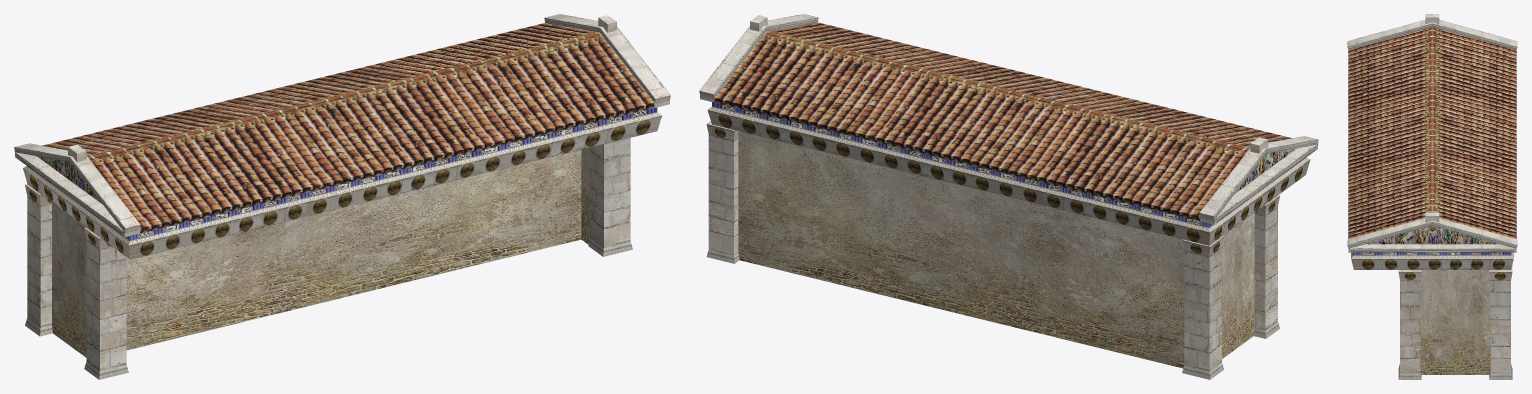
File: hele_stoa_props_roof.dae
3 renders of one model, left to right at view 1: azimuth 30°, elevation 25°; view 2: azimuth 150°, elevation 25°; view 3: azimuth 270°, elevation 25°, orthographic. The views are drawn at different scales.
Visible parts, largest first — view 1: Box02; view 2: Box02; view 3: Box02.
Boxes of the visible parts, x1,y1,x2,y2 form: Box02: (14, 14, 670, 379); Box02: (699, 14, 1318, 379); Box02: (1347, 14, 1517, 379).
Bounding box in the file's own units: 25.67 × 9.07 × 9.65.
